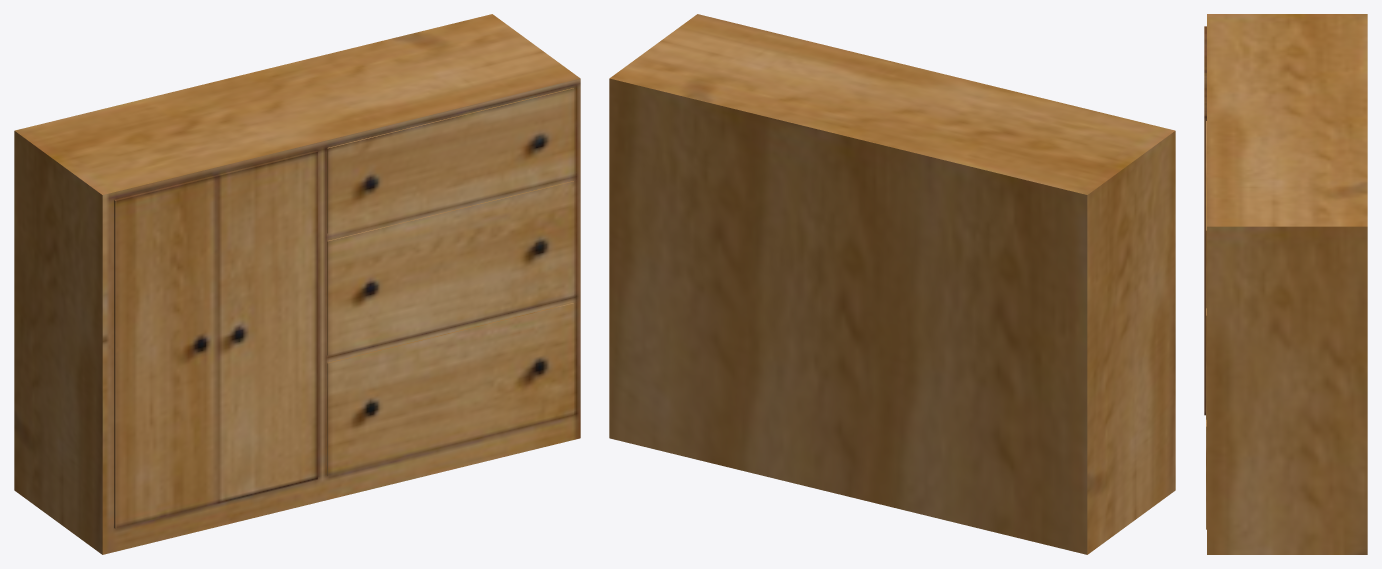
Rendered from comoda_d.glb.
3 views of the same model, side by side, from view 1: azimuth 30°, elevation 25°; view 2: azimuth 150°, elevation 25°; view 3: azimuth 270°, elevation 25° (orthographic). The views are drawn at different scales.
Parts seen in each view (by area): view 1: comoda_d; view 2: comoda_d; view 3: comoda_d.
Boxes of the visible parts, x1,y1,x2,y2 form: comoda_d: (14, 14, 580, 554); comoda_d: (609, 14, 1175, 554); comoda_d: (1204, 14, 1367, 554).
Bounding box in the file's own units: 1.31 × 0.9393 × 0.4234.
1 material, 1 textured.
